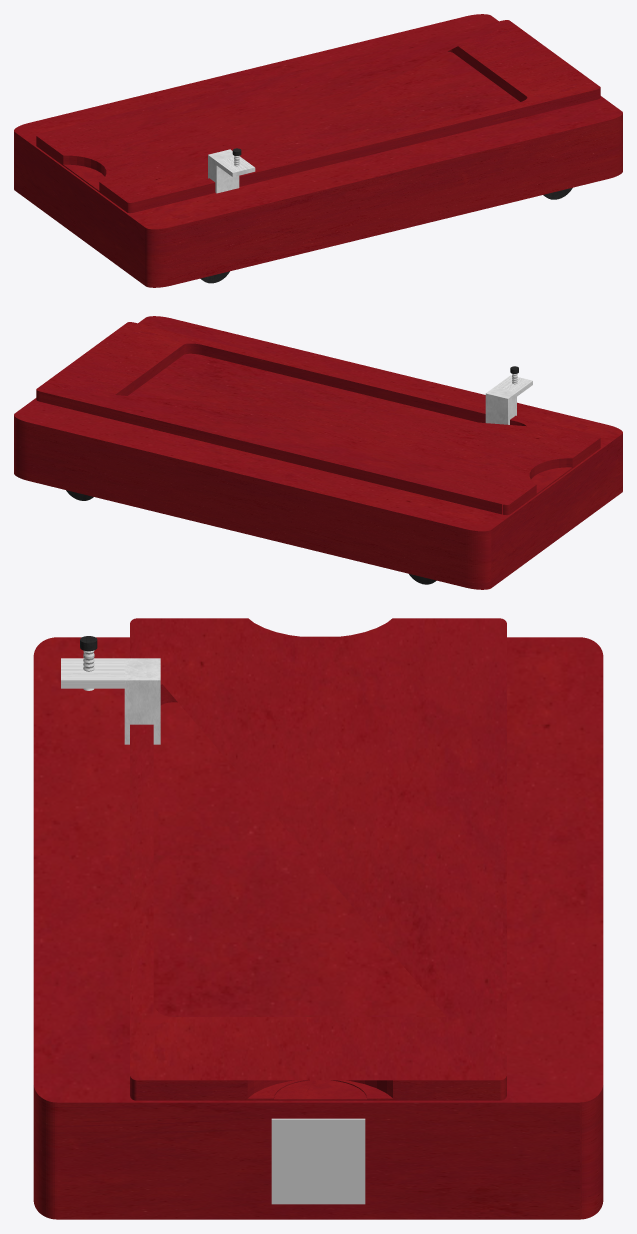
The model's file is red car.fbx.
3 renders of one model, top to bottom at view 1: azimuth 30°, elevation 25°; view 2: azimuth 150°, elevation 25°; view 3: azimuth 270°, elevation 25°, orthographic. The views are drawn at different scales.
Parts seen in each view (by area): view 1: 立方体.005, 立方体.009; view 2: 立方体.005, 立方体.009; view 3: 立方体.005, 立方体.008, 立方体.009.
Boxes of the visible parts, left/top/right/bottom form: 立方体.005: left=14, top=14, right=622, bottom=287; 立方体.009: left=208, top=149, right=255, bottom=193; 立方体.005: left=14, top=316, right=622, bottom=589; 立方体.009: left=485, top=375, right=532, bottom=424; 立方体.005: left=33, top=618, right=603, bottom=1219; 立方体.008: left=271, top=1118, right=365, bottom=1204; 立方体.009: left=61, top=658, right=160, bottom=744.
Bounding box in the file's own units: 2360 × 565 × 1219.
